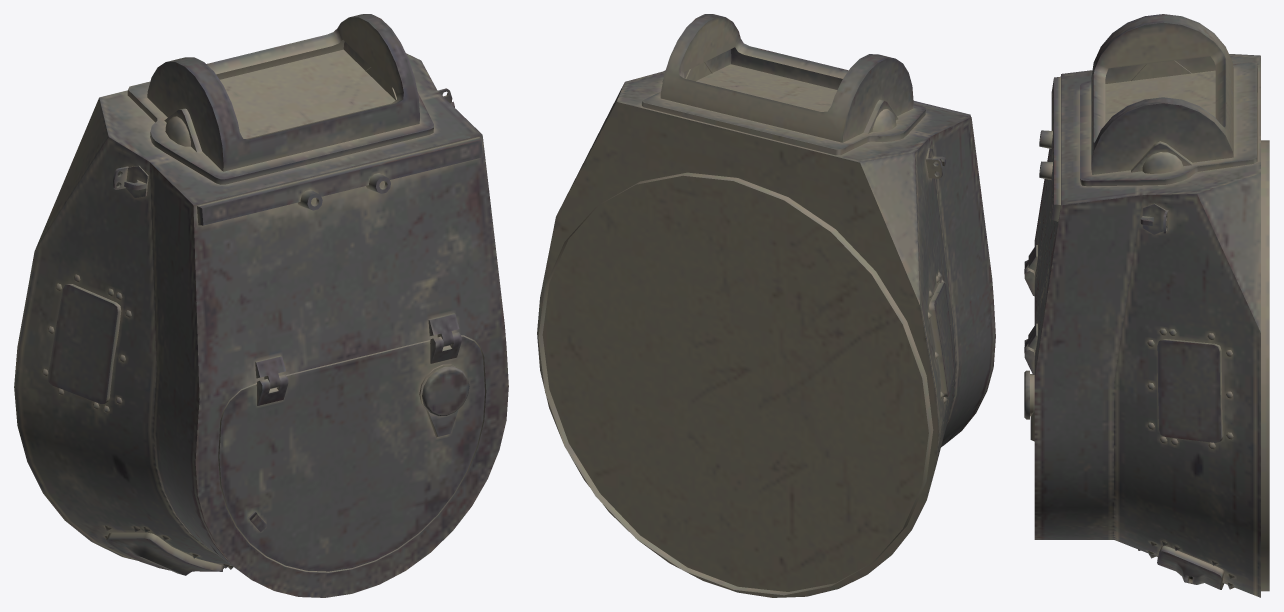
The model's file is Turret_02.glb.
3 renders of one model, left to right at view 1: azimuth 30°, elevation 25°; view 2: azimuth 150°, elevation 25°; view 3: azimuth 270°, elevation 25°, orthographic. The views are drawn at different scales.
Visible parts, largest first — view 1: set_0_group_0; view 2: set_0_group_0; view 3: set_0_group_0.
Part boxes in pixels (x1,y1,x2,y2): set_0_group_0: [14, 14, 508, 597]; set_0_group_0: [537, 14, 995, 597]; set_0_group_0: [1024, 14, 1269, 597].
Bounding box in the file's own units: 1.1 × 1.35 × 0.5794.
Materials: 1 (1 with a texture image).
